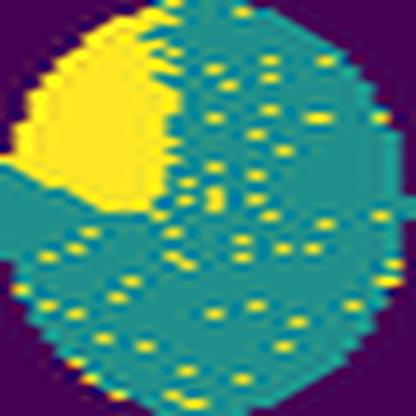Edge-Loc: (0, 0, 185, 216)
